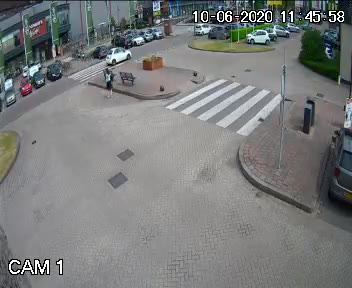car: (101, 45, 134, 66), (187, 21, 209, 40)
